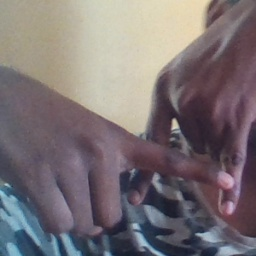H: (124, 85, 256, 227)
